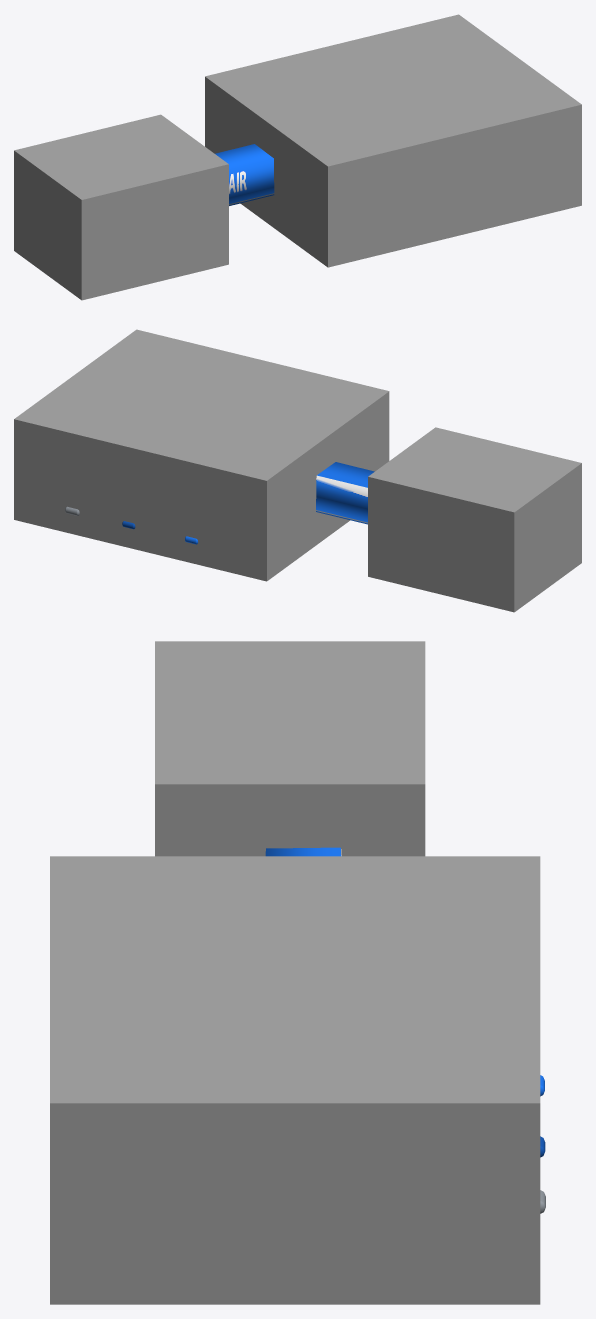
The model's file is sound travil.fbx.
The picture shows the model from 3 angles, top to bottom: view 1: azimuth 30°, elevation 25°; view 2: azimuth 150°, elevation 25°; view 3: azimuth 270°, elevation 25°; orthographic projection. The views are drawn at different scales.
Parts seen in each view (by area): view 1: pCube4, pCube3, pSphere10; view 2: pCube4, pCube3, pSphere10; view 3: pCube4, pCube3.
Boxes of the visible parts, <box> form: pCube4: <box>205,14,581,267</box>; pCube3: <box>14,114,228,300</box>; pSphere10: <box>215,144,274,203</box>; pCube4: <box>14,329,389,581</box>; pCube3: <box>368,427,581,612</box>; pSphere10: <box>316,462,374,522</box>; pCube4: <box>50,856,540,1304</box>; pCube3: <box>155,641,425,856</box>.
Size of the model in its own units: 3572 by 735 by 1626.
2 materials, 1 textured.
